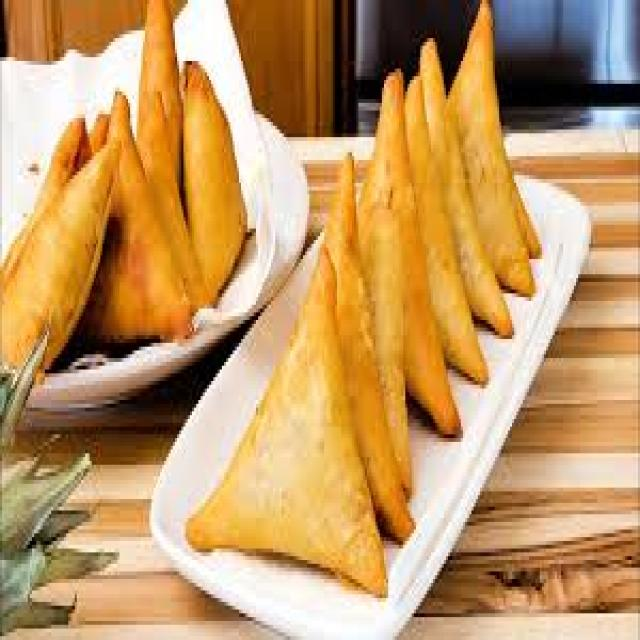SAMOSA: (186, 240, 384, 590), (324, 160, 412, 537), (384, 72, 459, 430), (448, 0, 538, 293), (405, 76, 486, 381), (361, 202, 407, 495)
